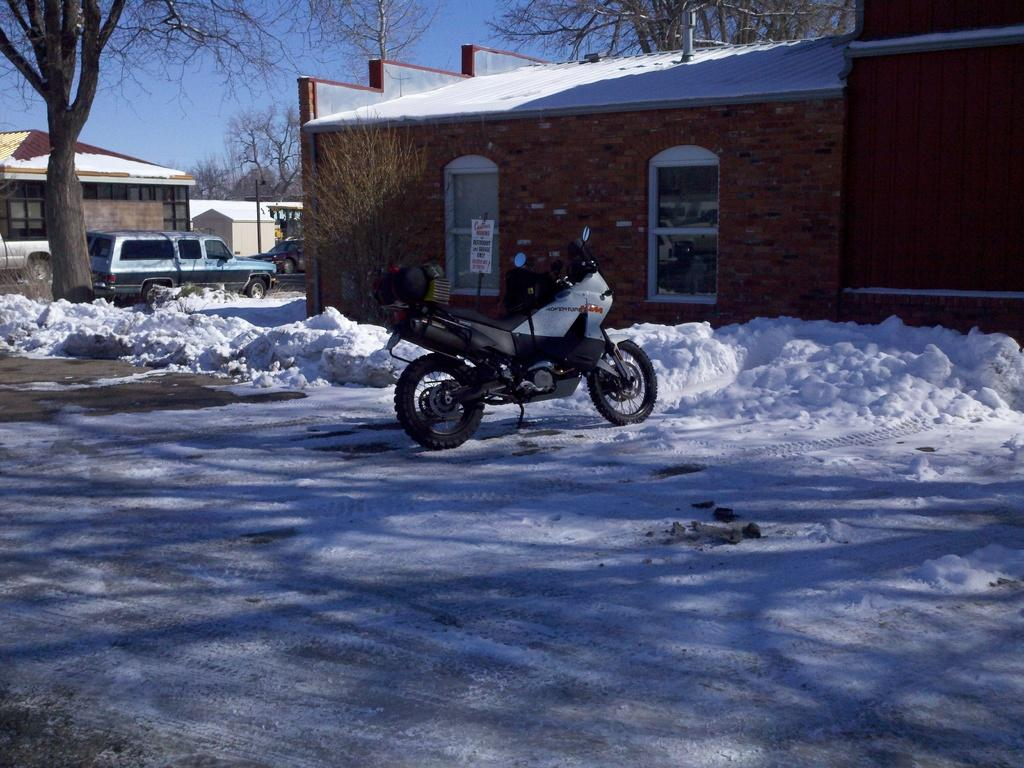vehicle: (84, 230, 276, 305)
